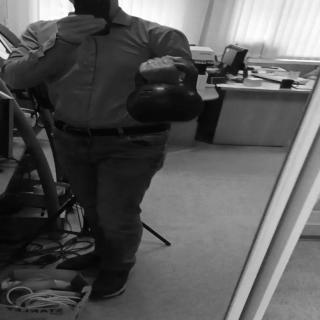kettlebell: (127, 59, 206, 123)
